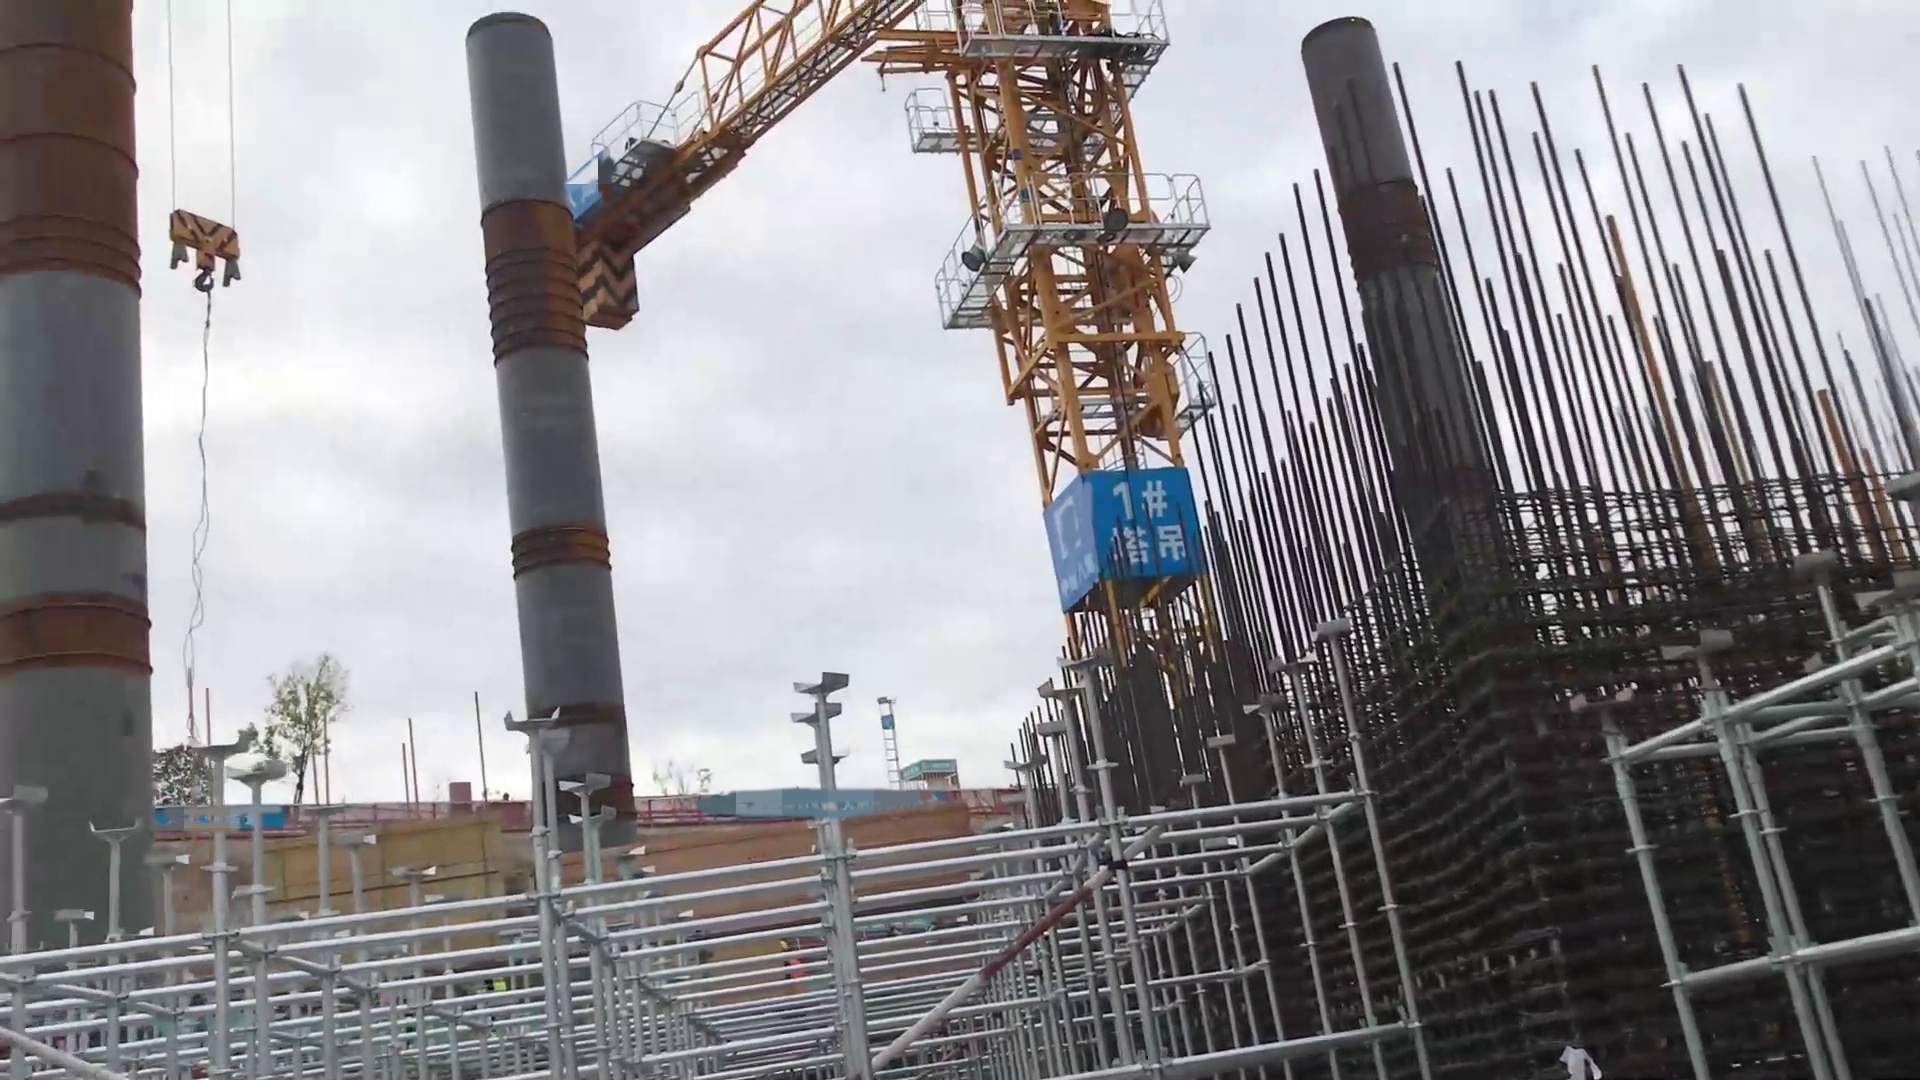hook: (162, 204, 251, 305)
